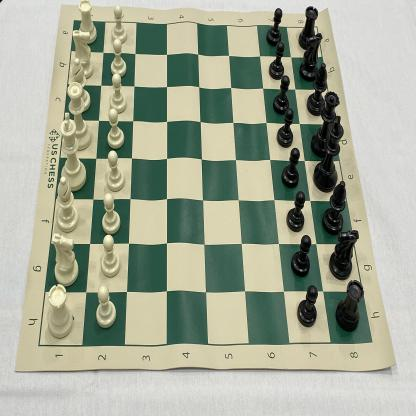black-bishop: (322, 179, 347, 234), (307, 63, 329, 115)
black-king: (313, 115, 345, 192)
black-knight: (329, 228, 360, 279), (299, 33, 323, 81)
black-pawn: (296, 285, 319, 328), (291, 235, 312, 278), (287, 189, 306, 233), (280, 148, 301, 187), (277, 108, 295, 149), (265, 7, 283, 46), (268, 39, 285, 79), (273, 74, 290, 114)
black-queen: (311, 92, 340, 155)
black-rook: (336, 280, 366, 333), (299, 7, 319, 49)
white-bishop: (55, 175, 79, 232), (69, 58, 91, 112)
white-king: (58, 112, 86, 191)
white-knight: (50, 232, 79, 286), (72, 29, 94, 78)
white-pawn: (96, 235, 122, 278), (94, 286, 117, 330), (99, 194, 121, 235), (104, 109, 126, 150), (105, 150, 125, 192), (110, 5, 128, 45), (110, 74, 128, 113), (110, 39, 128, 76)
white-queen: (65, 80, 92, 151)
white-rook: (45, 281, 73, 339), (77, 0, 97, 44)
